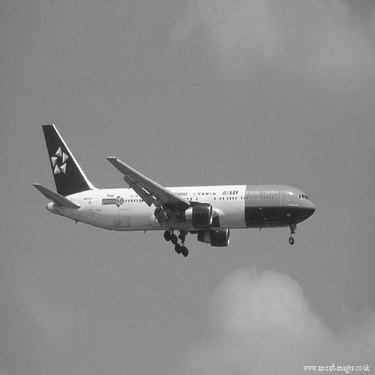airplane: (24, 115, 329, 264)
